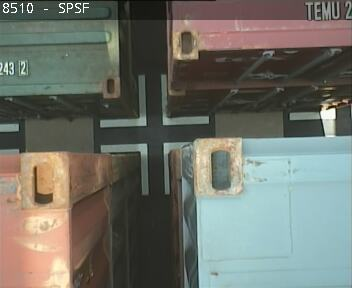groundmarker_1: (99, 73, 210, 127), (101, 142, 193, 195)
